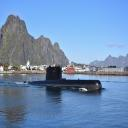submarine: (25, 56, 105, 92)
